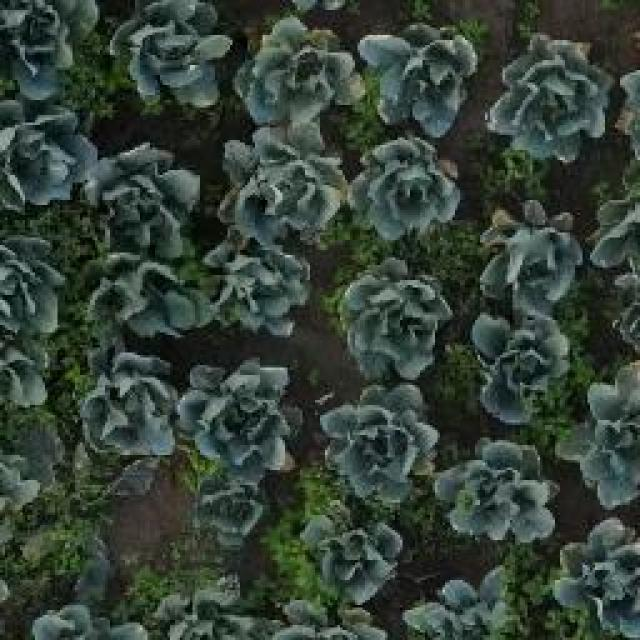cabbage: (484, 32, 610, 162), (318, 382, 438, 514), (178, 356, 301, 482), (103, 0, 234, 116), (234, 14, 366, 124), (334, 258, 454, 377), (75, 242, 210, 346), (84, 136, 206, 250), (360, 20, 474, 137), (466, 308, 574, 427), (437, 440, 558, 544), (78, 345, 186, 461), (478, 202, 590, 307), (548, 513, 640, 640), (296, 505, 403, 603), (0, 108, 98, 210), (0, 0, 99, 99), (358, 142, 453, 231), (240, 136, 327, 217), (215, 241, 297, 324), (192, 474, 273, 555)
